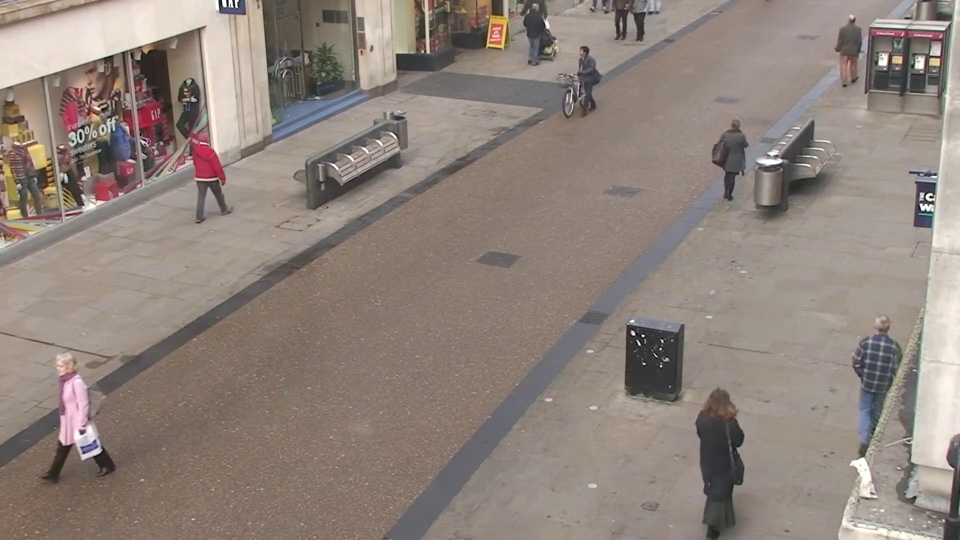pedestrian: (18, 347, 89, 504), (690, 369, 747, 531), (850, 296, 908, 441), (188, 124, 227, 220), (716, 113, 750, 208), (833, 13, 865, 85), (569, 43, 594, 119), (528, 0, 550, 63)
